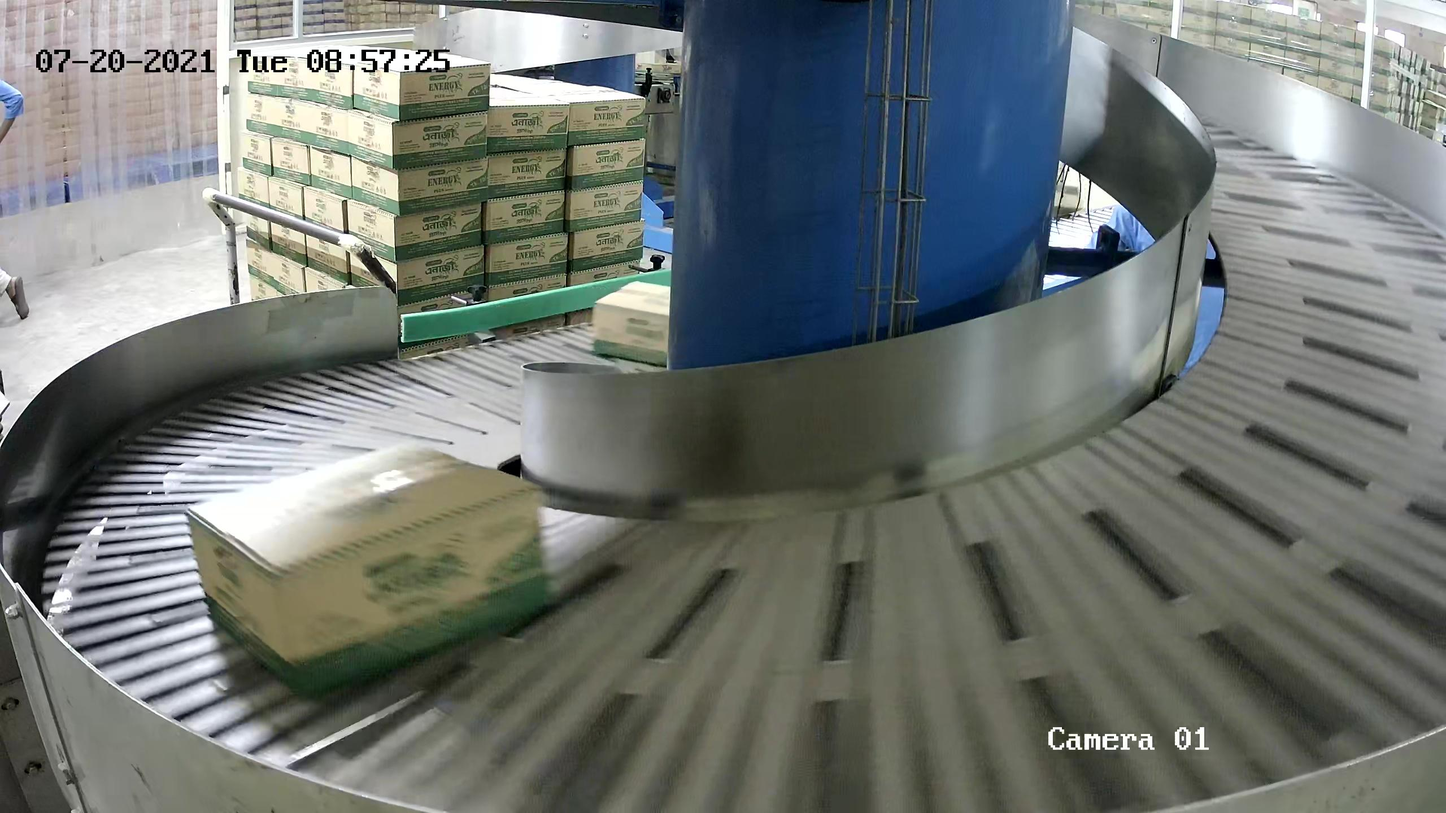Box: (182, 433, 554, 703), (592, 279, 671, 368)
